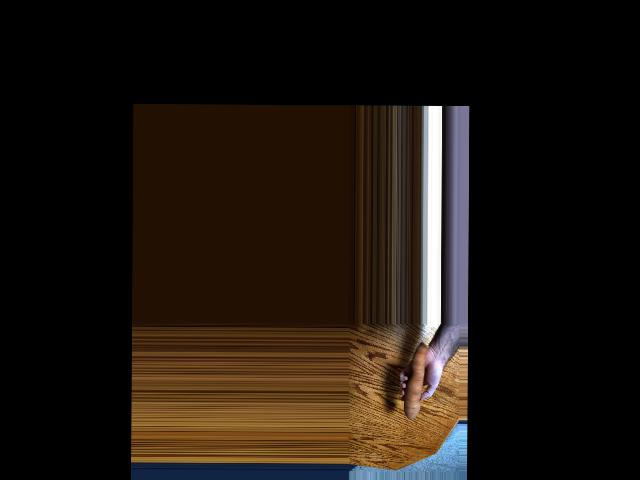sweet_potato: (398, 346, 429, 419)
